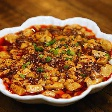mapodoufu: (1, 22, 111, 98)
